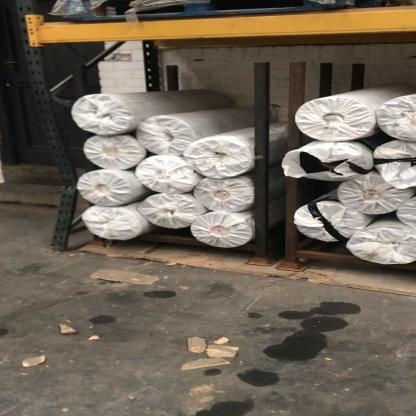vertical_damage: (42, 134, 91, 223)
